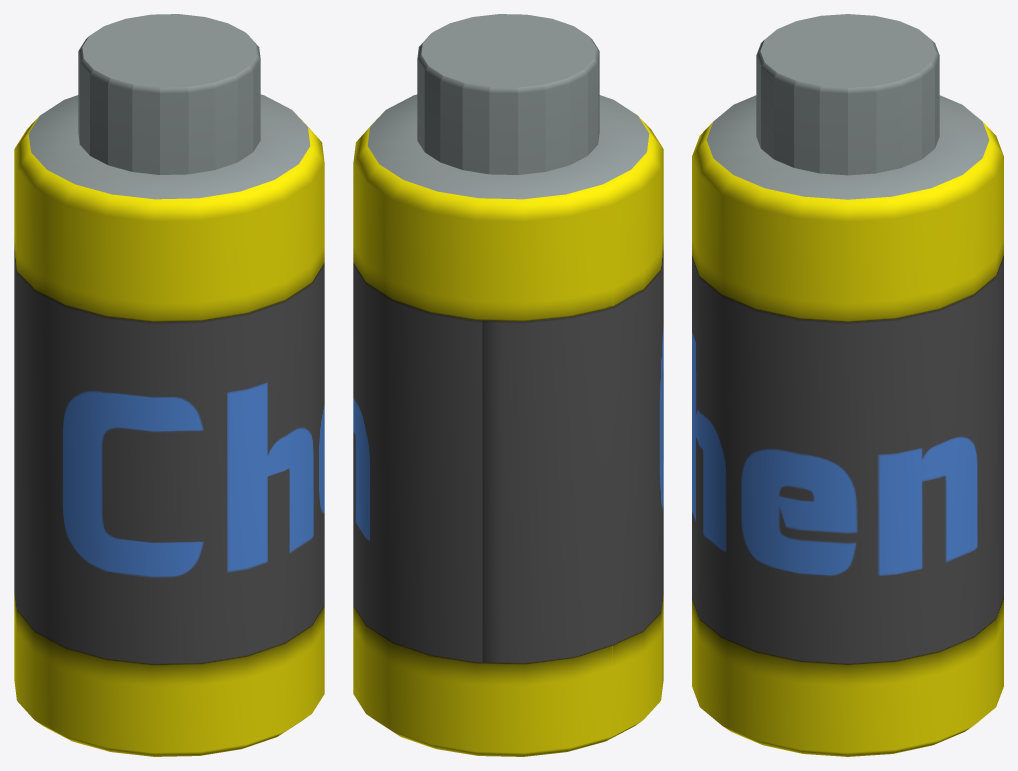
The model's file is Battery.fbx.
3 renders of one model, left to right at view 1: azimuth 30°, elevation 25°; view 2: azimuth 150°, elevation 25°; view 3: azimuth 270°, elevation 25°, orthographic.
Visible parts, largest first — view 1: pCylinder1; view 2: pCylinder1; view 3: pCylinder1.
Part boxes in pixels (x1=…): pCylinder1: x1=14, y1=14, x2=324, y2=756; pCylinder1: x1=353, y1=14, x2=663, y2=756; pCylinder1: x1=692, y1=14, x2=1003, y2=756.
Size of the model in its own units: 0.8492 by 1.94 by 0.8492.
